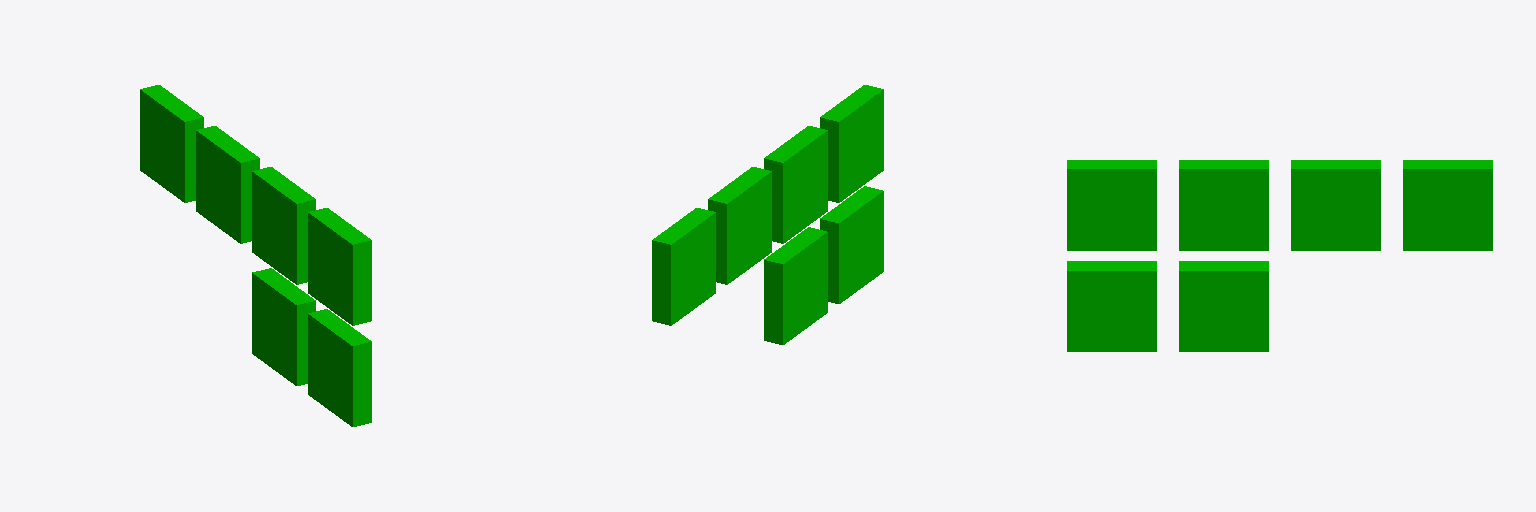
File: 4x4-neon-green.obj
3 views of the same model, side by side, from view 1: azimuth 30°, elevation 25°; view 2: azimuth 150°, elevation 25°; view 3: azimuth 270°, elevation 25° (orthographic).
Parts seen in each view (by area): view 1: Cube.009_Cube.010, Cube.017_Cube.018, Cube.023_Cube.024, Cube.011_Cube.012, Cube.021_Cube.022, Cube.019_Cube.020; view 2: Cube.023_Cube.024, Cube.011_Cube.012, Cube.017_Cube.018, Cube.009_Cube.010, Cube.019_Cube.020, Cube.021_Cube.022; view 3: Cube.009_Cube.010, Cube.011_Cube.012, Cube.017_Cube.018, Cube.019_Cube.020, Cube.021_Cube.022, Cube.023_Cube.024.
Boxes of the visible parts, <box> form: Cube.009_Cube.010: <box>308,309,371,426</box>; Cube.017_Cube.018: <box>308,208,371,325</box>; Cube.023_Cube.024: <box>140,85,203,202</box>; Cube.011_Cube.012: <box>252,268,315,385</box>; Cube.021_Cube.022: <box>196,126,259,243</box>; Cube.019_Cube.020: <box>252,167,315,284</box>; Cube.023_Cube.024: <box>652,208,715,325</box>; Cube.011_Cube.012: <box>764,227,827,344</box>; Cube.017_Cube.018: <box>820,85,883,202</box>; Cube.009_Cube.010: <box>820,186,883,303</box>; Cube.019_Cube.020: <box>764,126,827,243</box>; Cube.021_Cube.022: <box>708,167,771,284</box>; Cube.009_Cube.010: <box>1067,261,1156,351</box>; Cube.011_Cube.012: <box>1179,261,1268,351</box>; Cube.017_Cube.018: <box>1067,160,1156,250</box>; Cube.019_Cube.020: <box>1179,160,1268,250</box>; Cube.021_Cube.022: <box>1291,160,1380,250</box>; Cube.023_Cube.024: <box>1403,160,1492,250</box>.
Bounding box in the file's own units: 0.01 × 0.09 × 0.19.